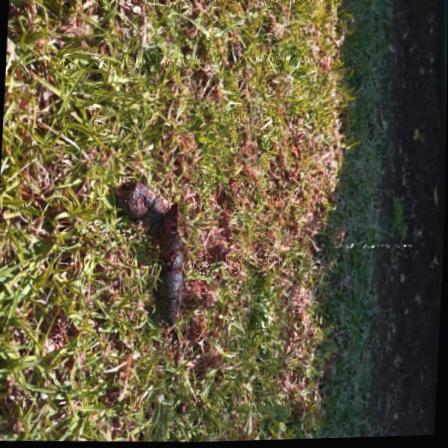dog-poop: (114, 187, 185, 319)
